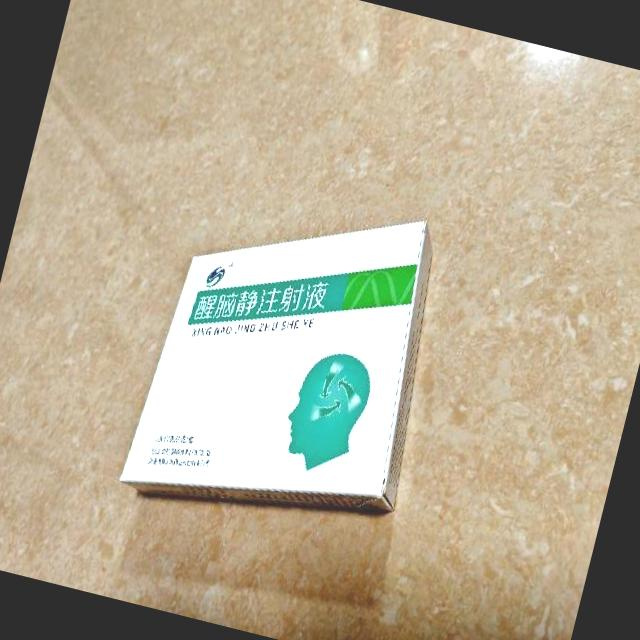box: (114, 162, 465, 557)
